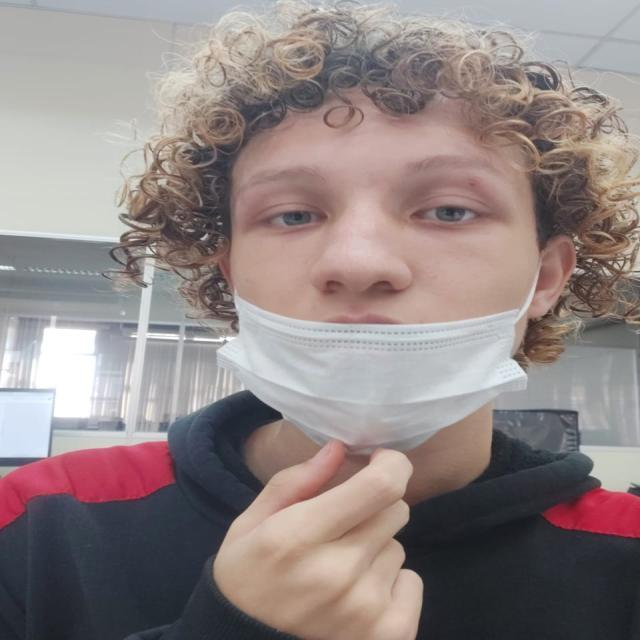hairnet: (228, 135, 516, 424)
